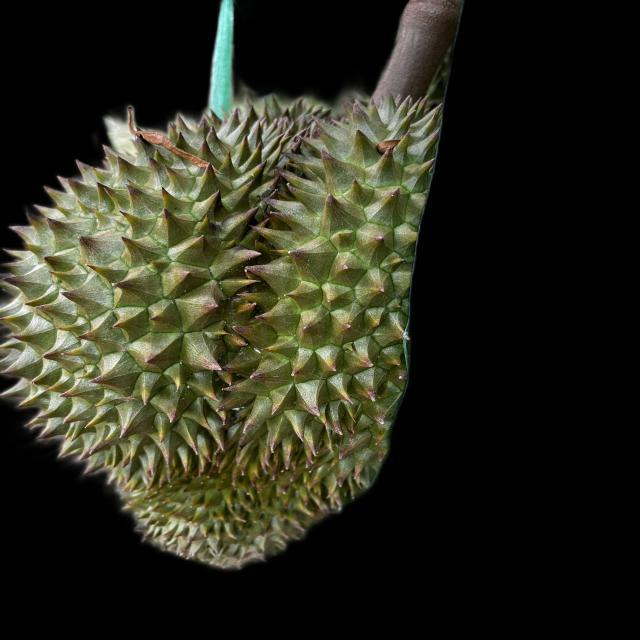immature: (0, 86, 436, 568)
